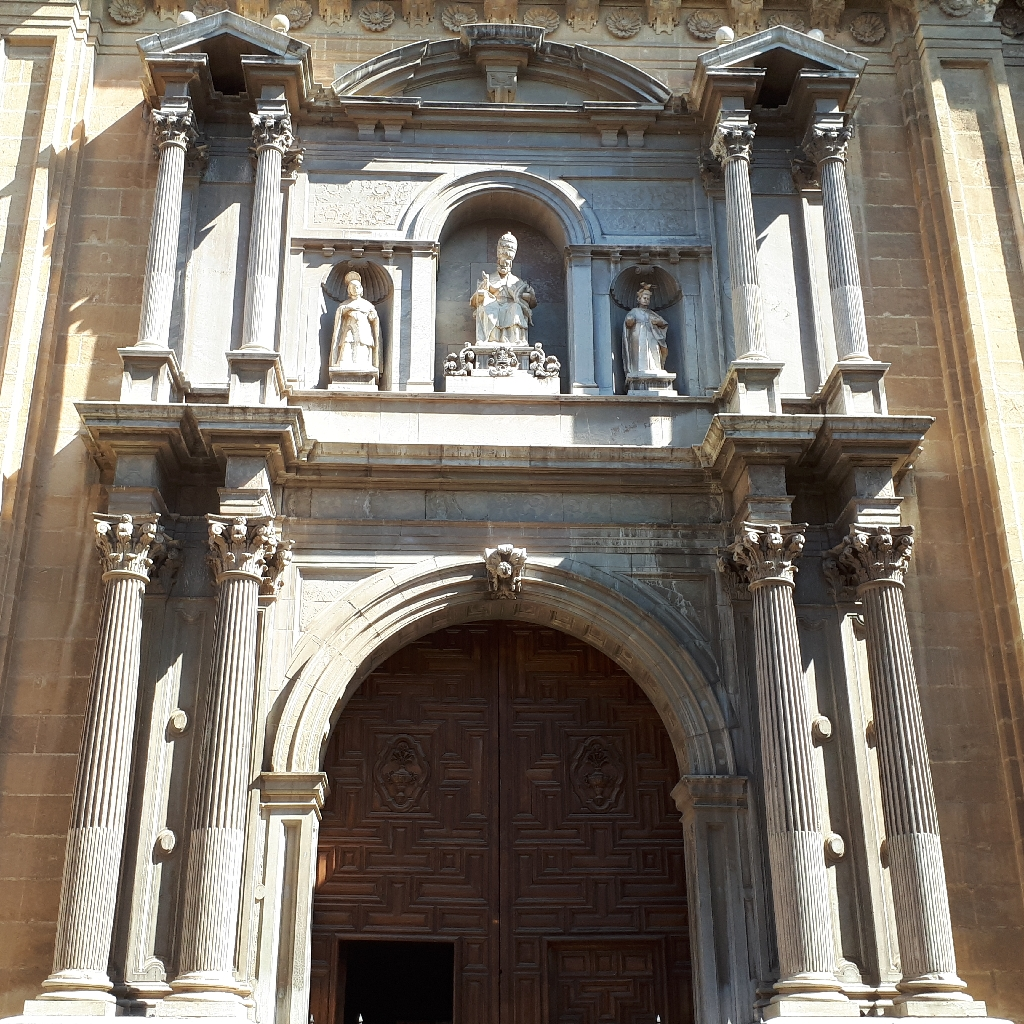arco-medio-punto: (290, 585, 718, 839), (416, 165, 592, 266)
fronton-curvo: (327, 33, 674, 120)
fronton-partido: (134, 5, 316, 77), (695, 24, 871, 94)
serliana: (288, 157, 718, 405)
